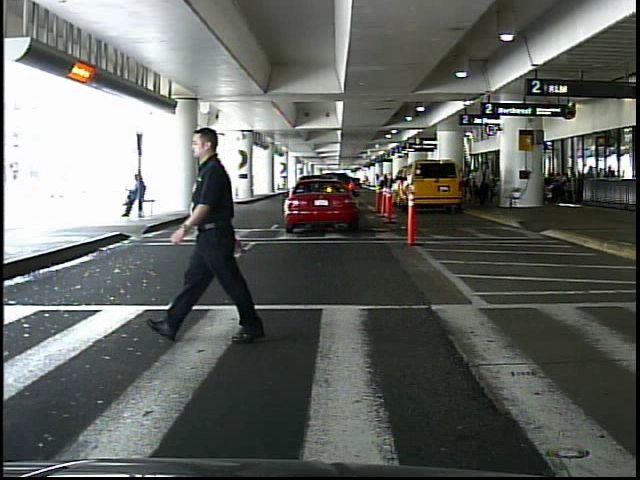person: (159, 123, 291, 347), (477, 161, 495, 209)
